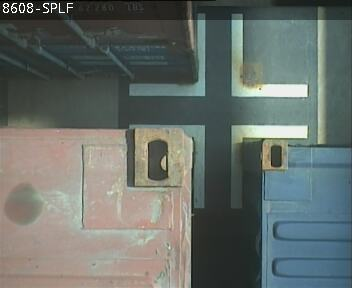groundmarker_1: (127, 124, 307, 208), (128, 13, 307, 96)
